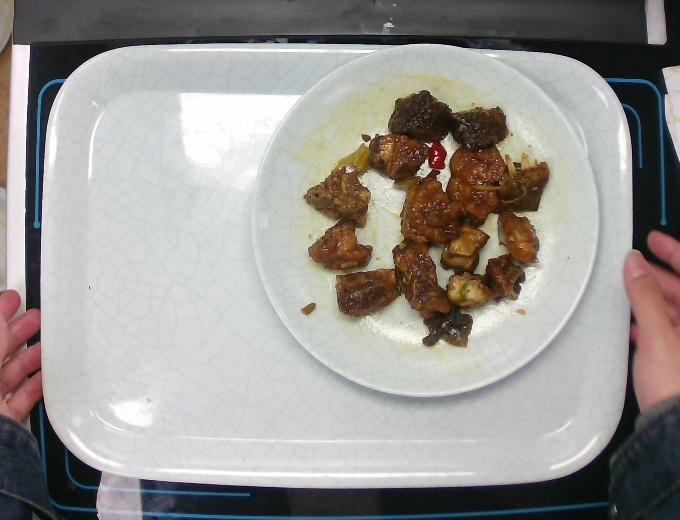JYsf-Da_Yuan_Pan: (252, 44, 602, 400)
